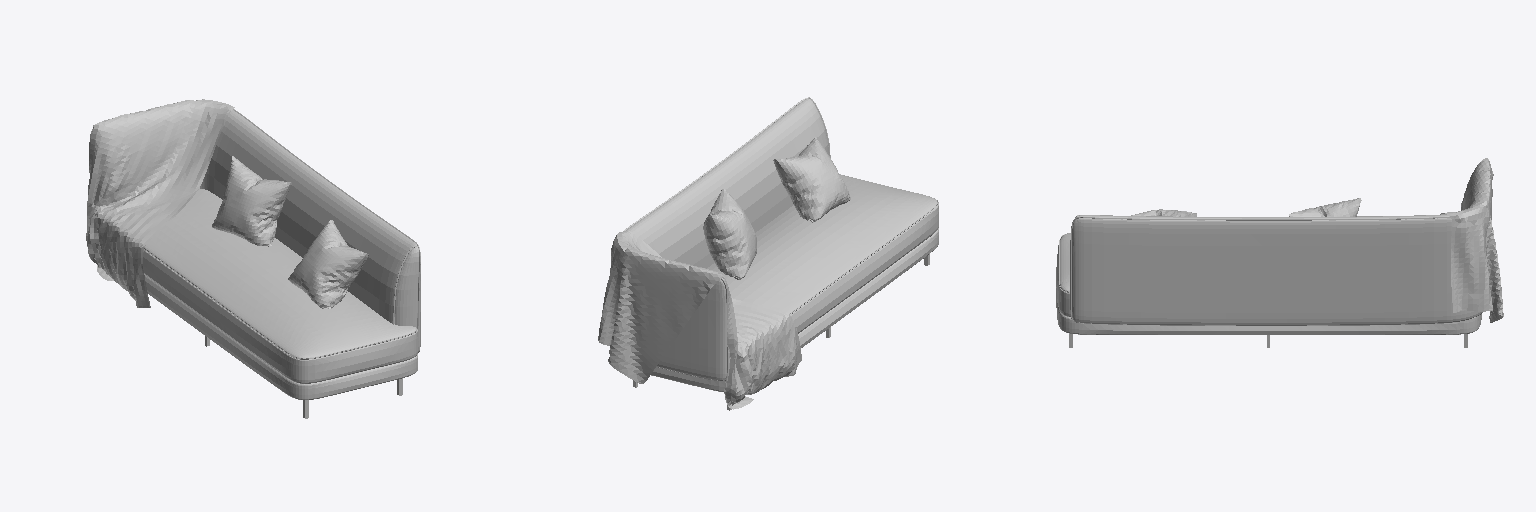
The model's file is sofa1.obj.
3 views of the same model, side by side, from view 1: azimuth 30°, elevation 25°; view 2: azimuth 150°, elevation 25°; view 3: azimuth 270°, elevation 25° (orthographic).
Visible parts, largest first — view 1: Hall_sofa.001, Plane.001; view 2: Hall_sofa.001, Plane.001; view 3: Hall_sofa.001, Plane.001.
Part boxes in pixels (x1,y1,x2,y2): Hall_sofa.001: (143,109,420,418); Plane.001: (86,99,368,308); Hall_sofa.001: (624,97,938,410); Plane.001: (598,137,850,409); Hall_sofa.001: (1056,214,1482,347); Plane.001: (1131,158,1503,322).
Bounding box in the file's own units: 0.8816 × 0.8022 × 2.25.